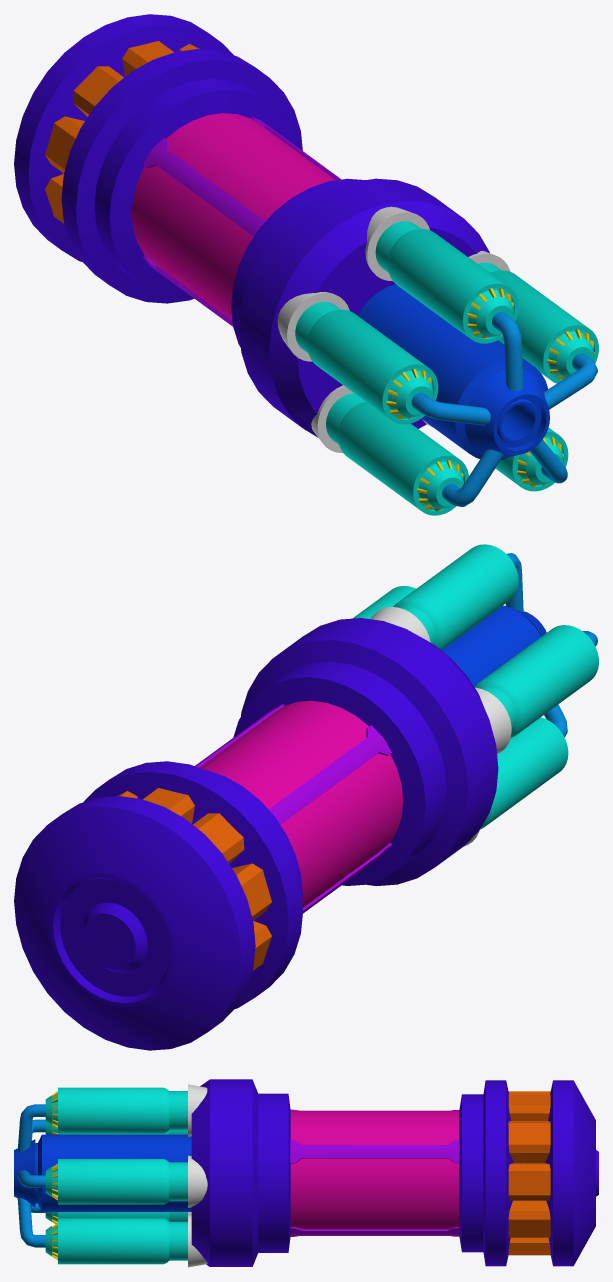
File: reactor.glb
The picture shows the model from 3 angles, top to bottom: view 1: azimuth 30°, elevation 25°; view 2: azimuth 150°, elevation 25°; view 3: azimuth 270°, elevation 25°; orthographic projection. The views are drawn at different scales.
Visible parts, largest first — view 1: Cylinder.013, Cylinder.001, Cylinder, Cylinder.006, Cylinder.002, Cylinder.004, Cylinder.011, Cylinder.003, Cube.002; view 2: Cylinder.013, Cylinder, Cylinder.006, Cylinder.001, Cylinder.002, Cylinder.003, Cube.002, Cylinder.011, Cylinder.004; view 3: Cylinder.001, Cylinder.006, Cylinder, Cylinder.013, Cylinder.003, Cylinder.002, Cube.002, Cylinder.004, Cylinder.011.
Part boxes in pixels (x1,y1,x2,y2): Cylinder.013: [14, 14, 302, 303]; Cylinder.001: [295, 221, 598, 515]; Cylinder: [231, 178, 489, 437]; Cylinder.006: [131, 113, 335, 319]; Cylinder.002: [357, 284, 549, 459]; Cylinder.004: [411, 312, 597, 506]; Cylinder.011: [277, 206, 510, 453]; Cylinder.003: [45, 41, 199, 223]; Cube.002: [143, 116, 341, 326]; Cylinder.013: [14, 761, 302, 1050]; Cylinder: [233, 618, 498, 885]; Cylinder.006: [199, 700, 403, 907]; Cylinder.001: [352, 544, 598, 829]; Cylinder.002: [441, 605, 546, 686]; Cylinder.003: [117, 788, 271, 970]; Cube.002: [195, 704, 391, 913]; Cylinder.011: [370, 607, 511, 846]; Cylinder.004: [505, 553, 597, 737]; Cylinder.001: [45, 1087, 187, 1264]; Cylinder.006: [290, 1110, 459, 1235]; Cylinder: [191, 1079, 290, 1266]; Cylinder.013: [459, 1080, 598, 1266]; Cylinder.003: [508, 1091, 550, 1255]; Cylinder.002: [14, 1134, 191, 1211]; Cube.002: [290, 1109, 459, 1237]; Cylinder.004: [17, 1104, 45, 1247]; Cylinder.011: [188, 1084, 207, 1267].
Size of the model in its own units: 4.02 by 4.05 by 12.51.
